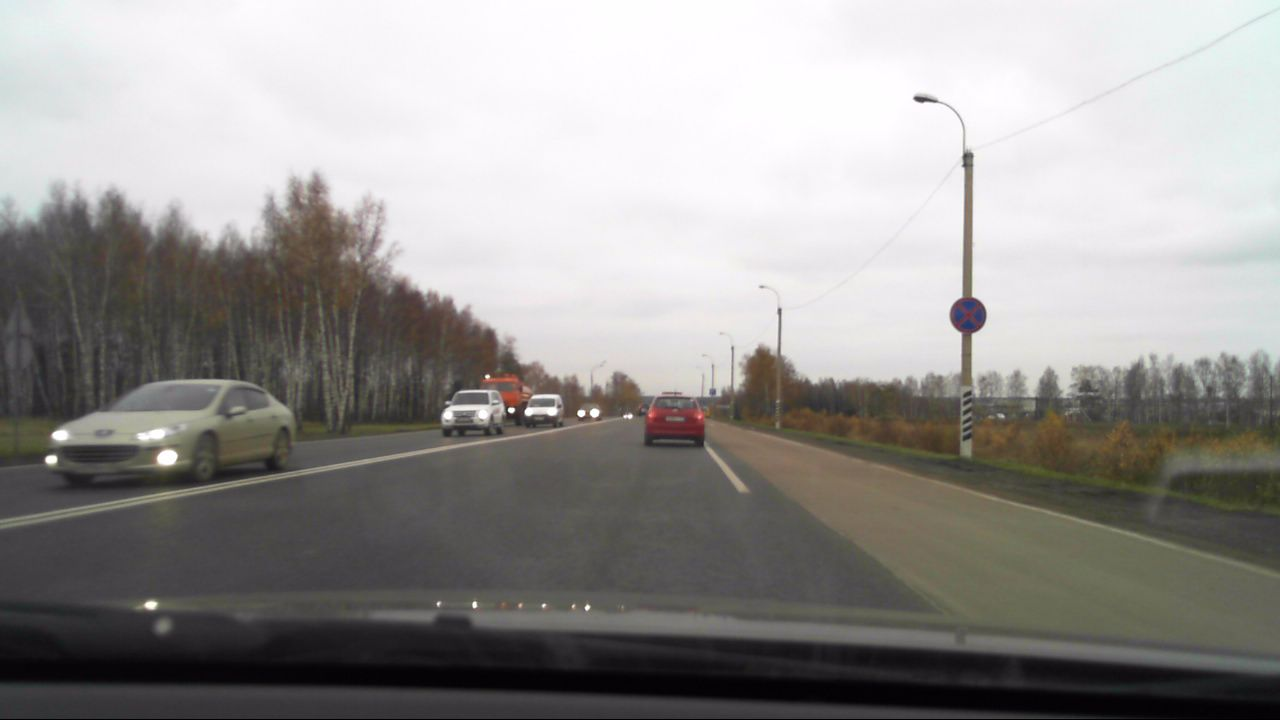No Parking: (947, 296, 988, 334)
